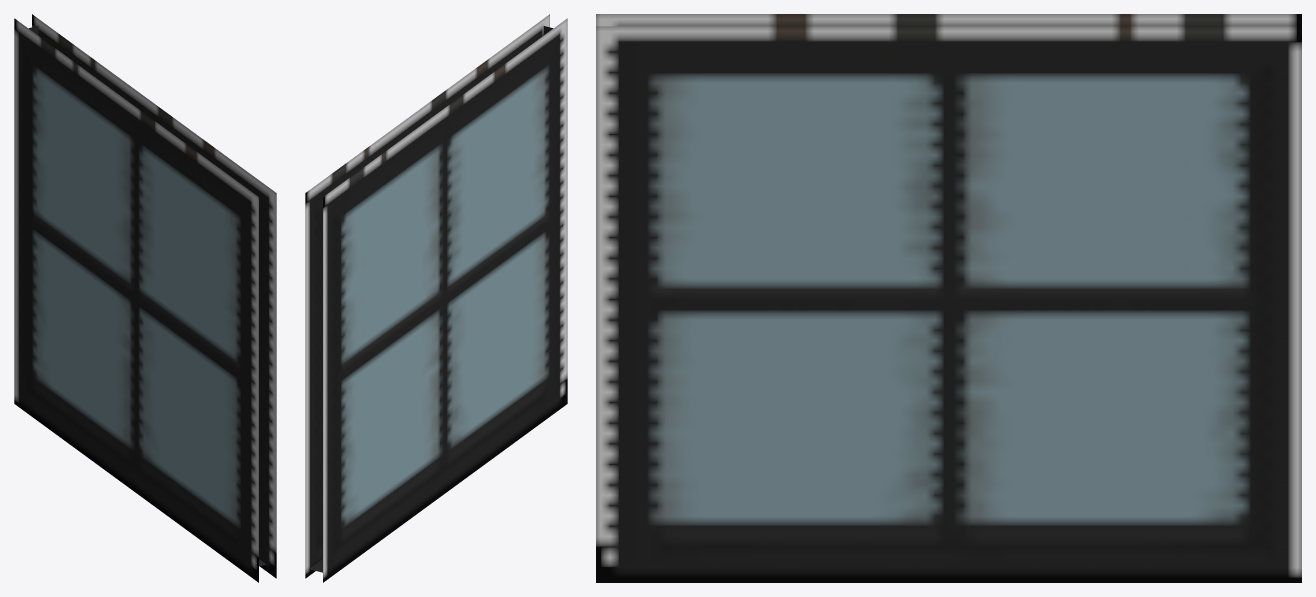
File: pz_native_fixtures_windows_metal_28_frame.obj
3 views of the same model, side by side, from view 1: azimuth 30°, elevation 25°; view 2: azimuth 150°, elevation 25°; view 3: azimuth 270°, elevation 25° (orthographic). The views are drawn at different scales.
Parts seen in each view (by area): view 1: pz_native_fixtures_windows_metal_28_frame; view 2: pz_native_fixtures_windows_metal_28_frame; view 3: pz_native_fixtures_windows_metal_28_frame.
Boxes of the visible parts, x1,y1,x2,y2 form: pz_native_fixtures_windows_metal_28_frame: (14, 14, 276, 582); pz_native_fixtures_windows_metal_28_frame: (305, 14, 567, 582); pz_native_fixtures_windows_metal_28_frame: (596, 14, 1301, 582).
Size of the model in its own units: 0.04 by 0.8438 by 0.9696.
Materials: 1 (1 with a texture image).
